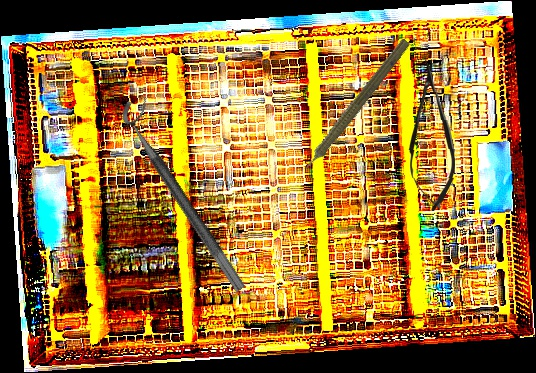Fixation Ring: (115, 92, 262, 294)
Handpiece: (289, 33, 414, 185)
Micro Scissor: (405, 58, 457, 212)
